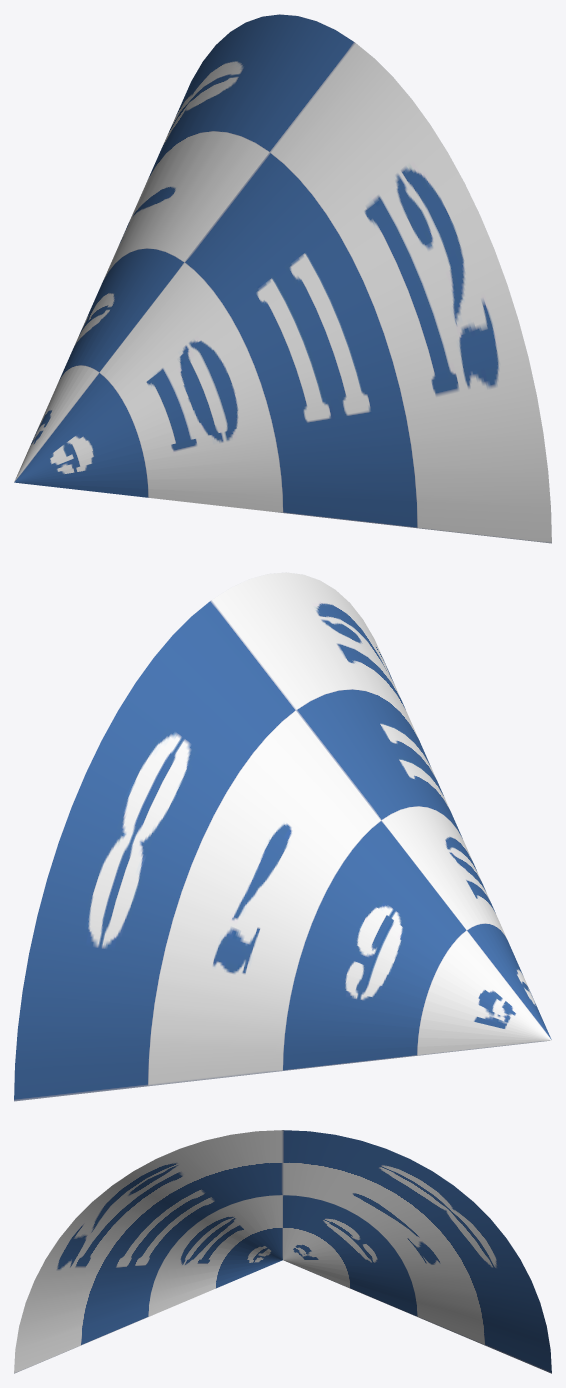
The model's file is Rui_Spl_HalfCircle01.fbx.
3 views of the same model, one above another, from view 1: azimuth 30°, elevation 25°; view 2: azimuth 150°, elevation 25°; view 3: azimuth 270°, elevation 25° (orthographic). The views are drawn at different scales.
Visible parts, largest first — view 1: SM_d_e_P1007_V00_C00_SplKrt_c030_HalfCone_01; view 2: SM_d_e_P1007_V00_C00_SplKrt_c030_HalfCone_01; view 3: SM_d_e_P1007_V00_C00_SplKrt_c030_HalfCone_01.
Part boxes in pixels (left/top/right/bottom): SM_d_e_P1007_V00_C00_SplKrt_c030_HalfCone_01: left=14, top=14, right=551, bottom=543; SM_d_e_P1007_V00_C00_SplKrt_c030_HalfCone_01: left=14, top=572, right=551, bottom=1101; SM_d_e_P1007_V00_C00_SplKrt_c030_HalfCone_01: left=14, top=1130, right=551, bottom=1373.
Bounding box in the file's own units: 50 × 50 × 100.
